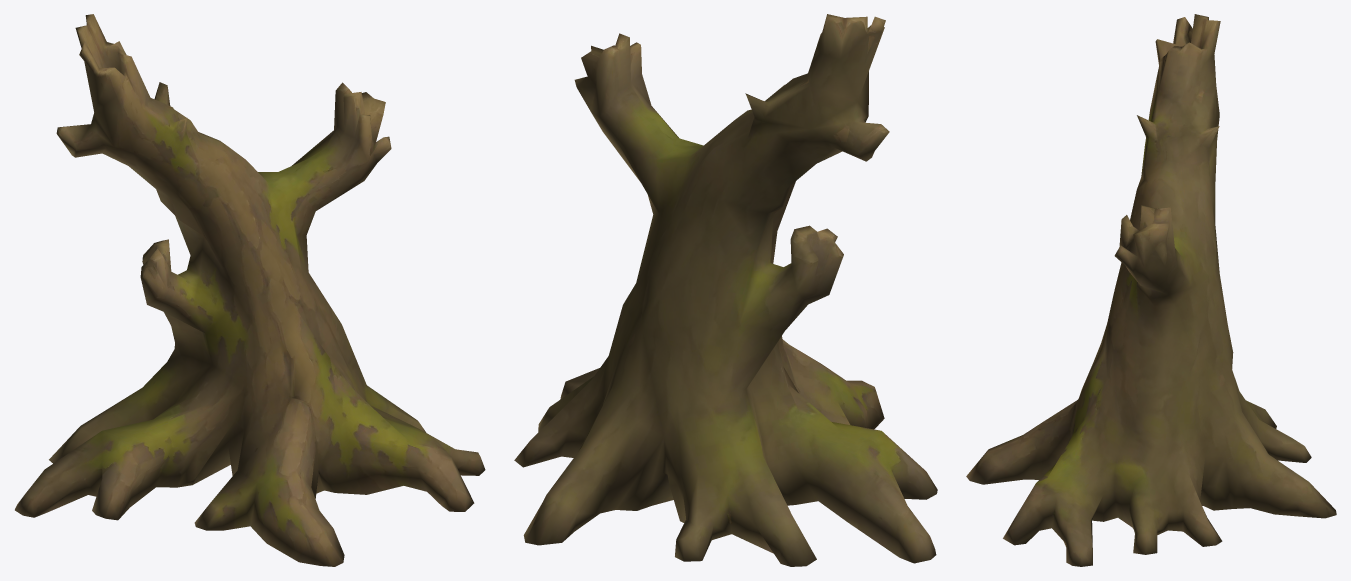
File: SM_FR_TreeTrunkBent.fbx
3 renders of one model, left to right at view 1: azimuth 30°, elevation 25°; view 2: azimuth 150°, elevation 25°; view 3: azimuth 270°, elevation 25°, orthographic. The views are drawn at different scales.
Visible parts, largest first — view 1: SM_FR_TreeTrunkBent; view 2: SM_FR_TreeTrunkBent; view 3: SM_FR_TreeTrunkBent.
Part boxes in pixels (x1,y1,x2,y2): SM_FR_TreeTrunkBent: (15, 14, 485, 566); SM_FR_TreeTrunkBent: (514, 14, 937, 566); SM_FR_TreeTrunkBent: (966, 14, 1336, 566).
Bounding box in the file's own units: 3.8 × 4.3 × 3.49.
Materials: 1 (1 with a texture image).
